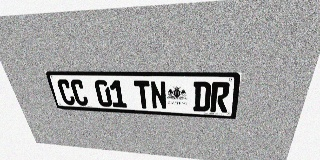0: (93, 80, 113, 107)
1: (108, 80, 127, 108)
C: (69, 79, 89, 106), (56, 79, 76, 105)
D: (193, 81, 211, 112)
N: (150, 81, 167, 110)
R: (210, 82, 231, 113)
T: (134, 80, 152, 109)
